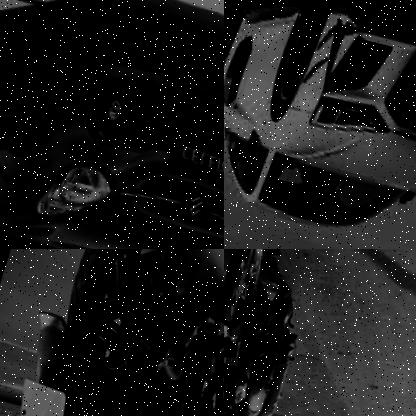bike: (0, 249, 224, 416), (224, 249, 303, 416)
car: (224, 0, 416, 249)
